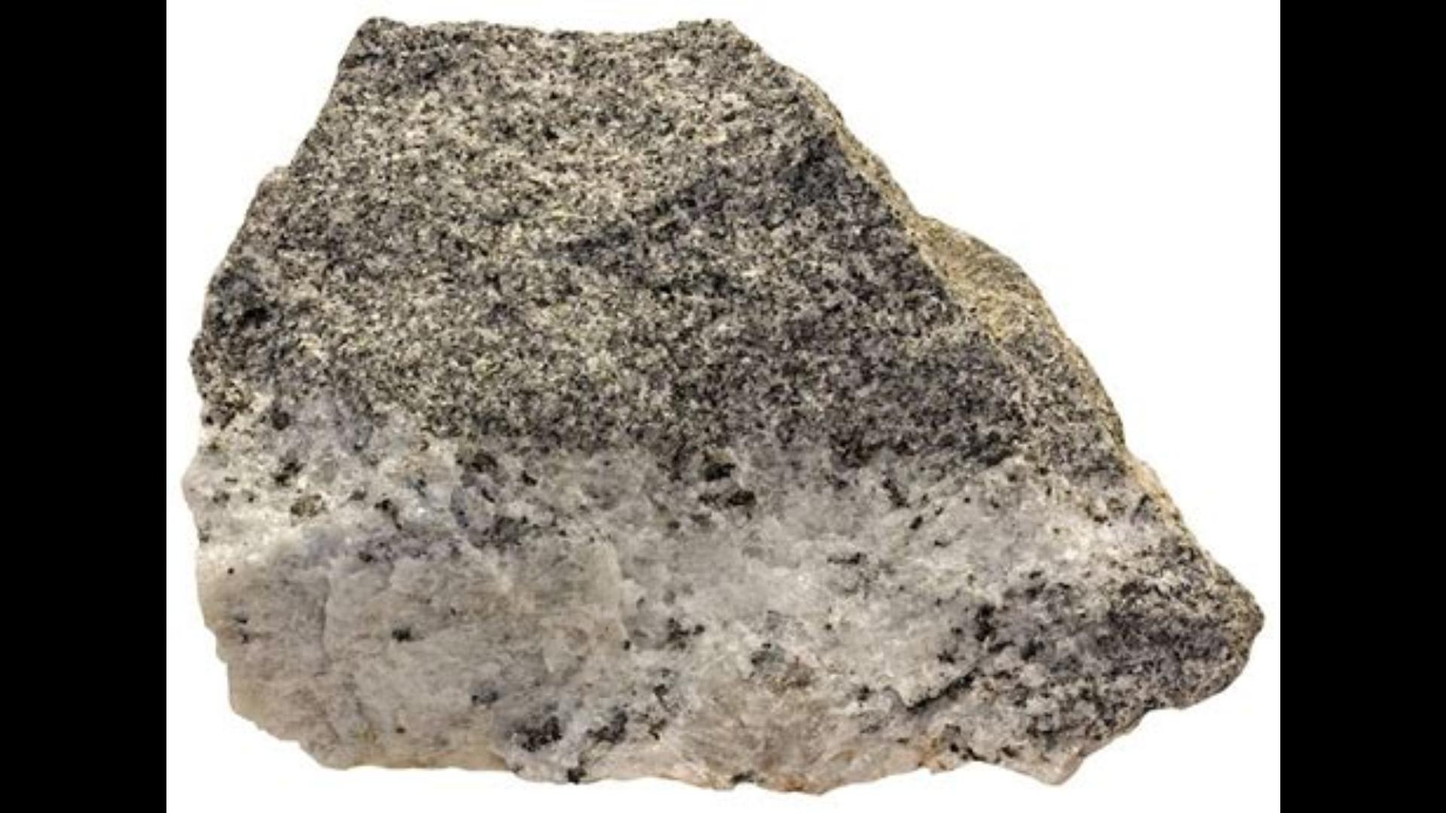rock: (184, 21, 1259, 787)
